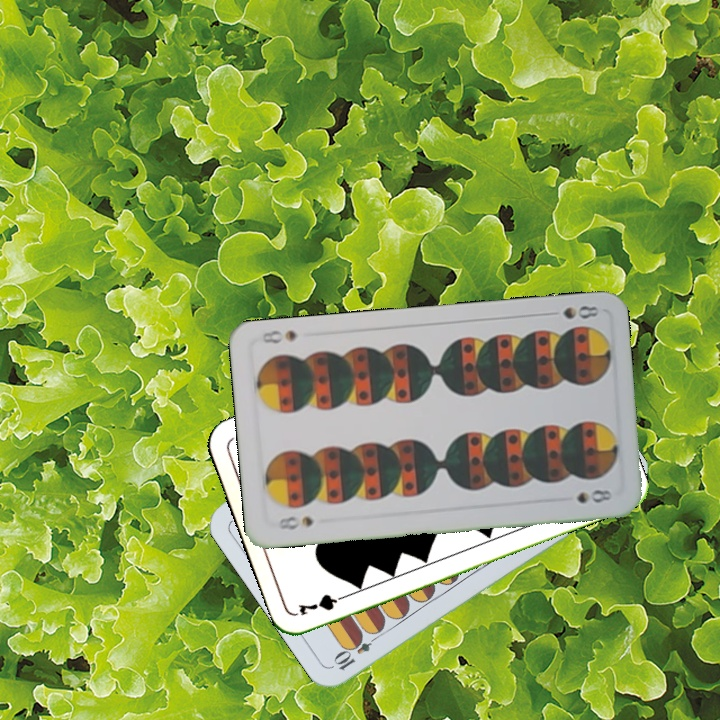E10: (330, 628, 383, 673)
G7: (294, 589, 353, 619)
S8: (542, 301, 602, 322), (274, 512, 316, 532)
